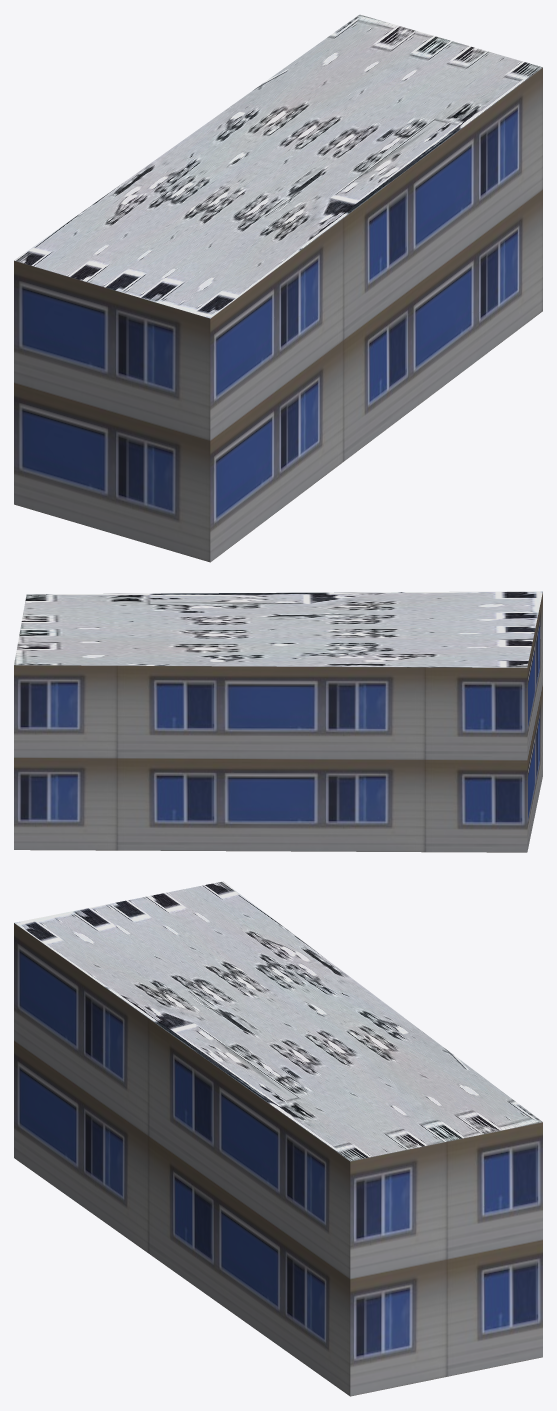
The model's file is ResTex__255.fbx.
3 renders of one model, top to bottom at view 1: azimuth 30°, elevation 25°; view 2: azimuth 150°, elevation 25°; view 3: azimuth 270°, elevation 25°, orthographic. The views are drawn at different scales.
Visible parts, largest first — view 1: CityEngineMaterial_23_m, CityEngineMaterial_4_m; view 2: CityEngineMaterial_23_m, CityEngineMaterial_4_m; view 3: CityEngineMaterial_23_m, CityEngineMaterial_4_m.
Part boxes in pixels (left/top/right/bottom): CityEngineMaterial_23_m: left=14, top=67, right=542, bottom=562; CityEngineMaterial_4_m: left=14, top=14, right=542, bottom=318; CityEngineMaterial_23_m: left=14, top=592, right=542, bottom=852; CityEngineMaterial_4_m: left=14, top=591, right=542, bottom=667; CityEngineMaterial_23_m: left=14, top=923, right=542, bottom=1396; CityEngineMaterial_4_m: left=14, top=881, right=542, bottom=1161.
Size of the model in its own units: 15.31 by 6 by 12.23.
Materials: 2 (2 with a texture image).
